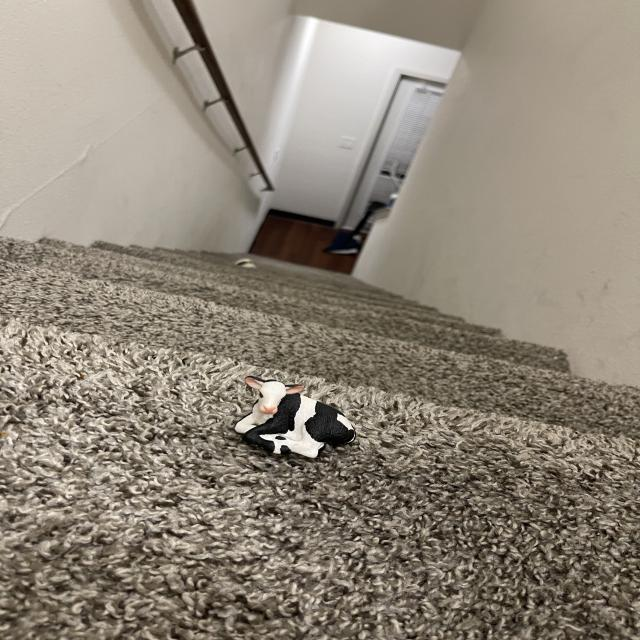cow: (221, 368, 363, 483)
